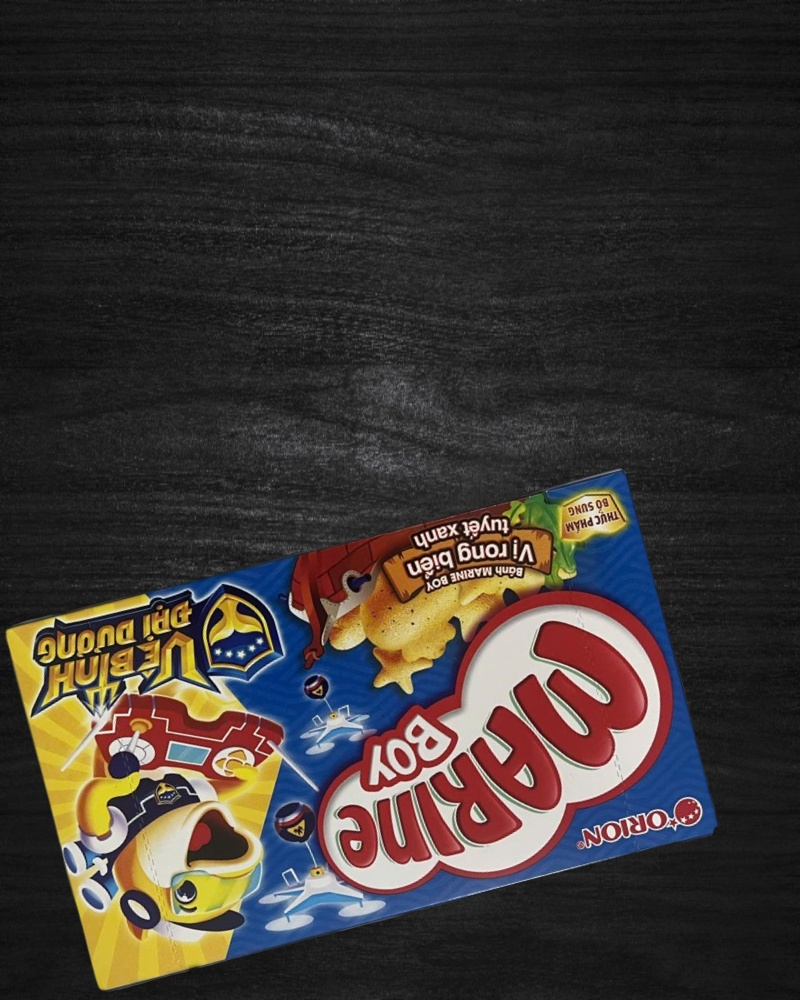Marine: (1, 462, 723, 998)
